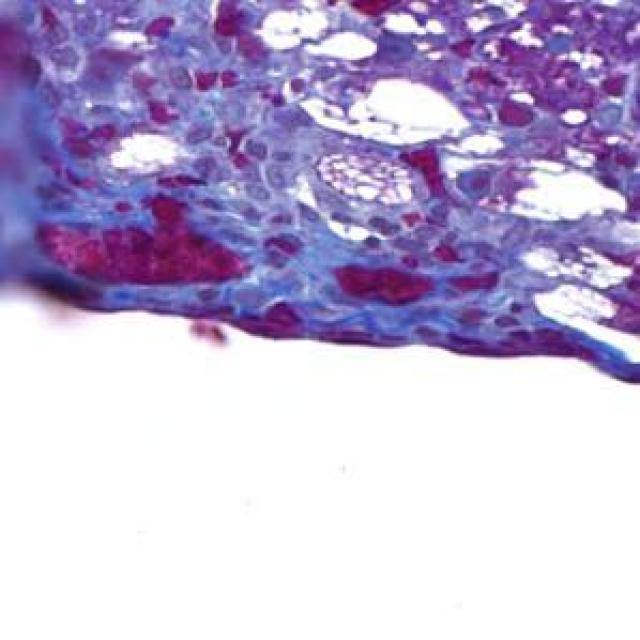ballooning: (439, 146, 629, 231), (302, 75, 471, 150)
